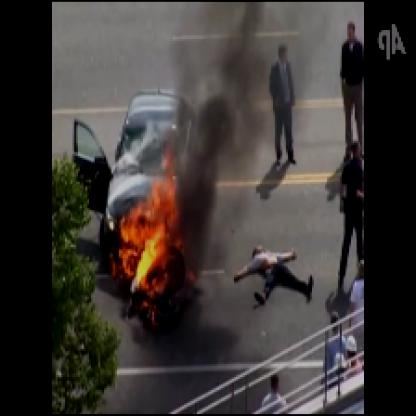Fire: (115, 130, 188, 321)
Smoke: (177, 2, 271, 271)
